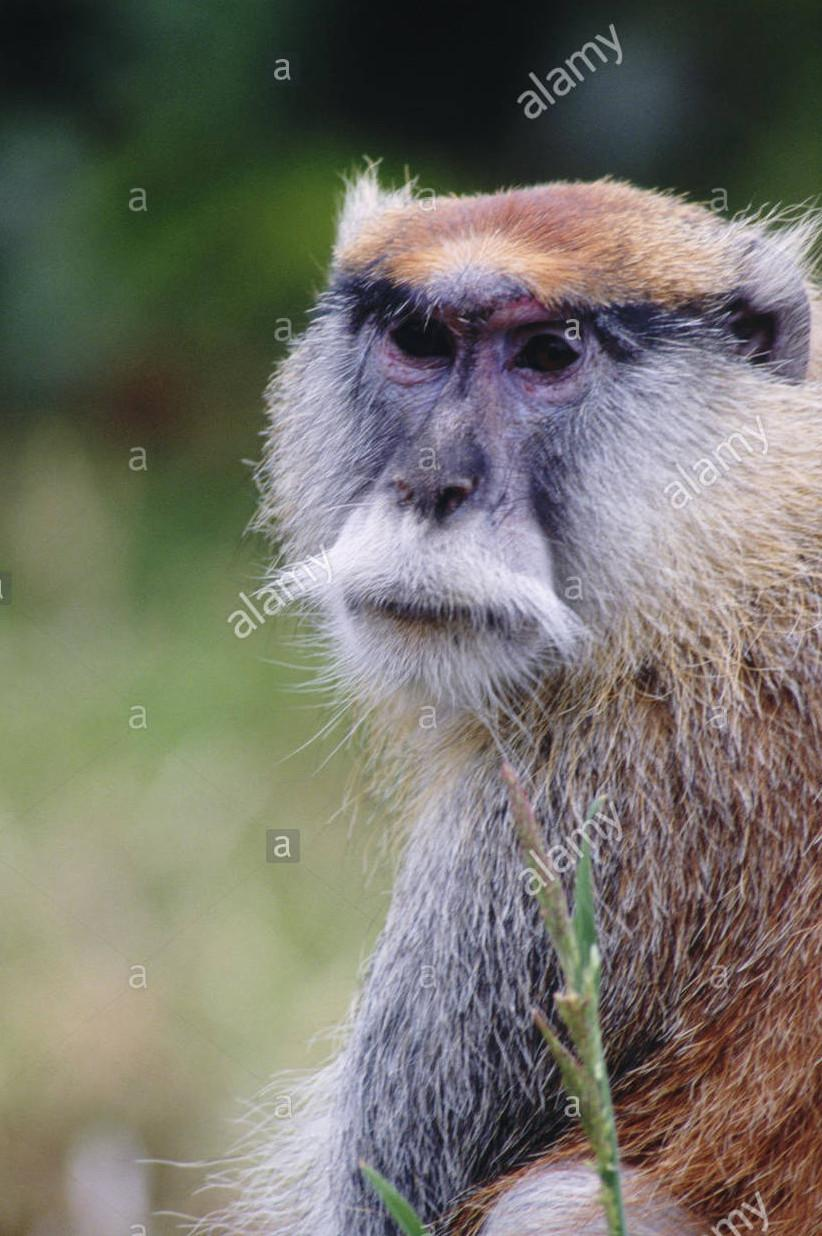monkey: (256, 175, 822, 1236)
